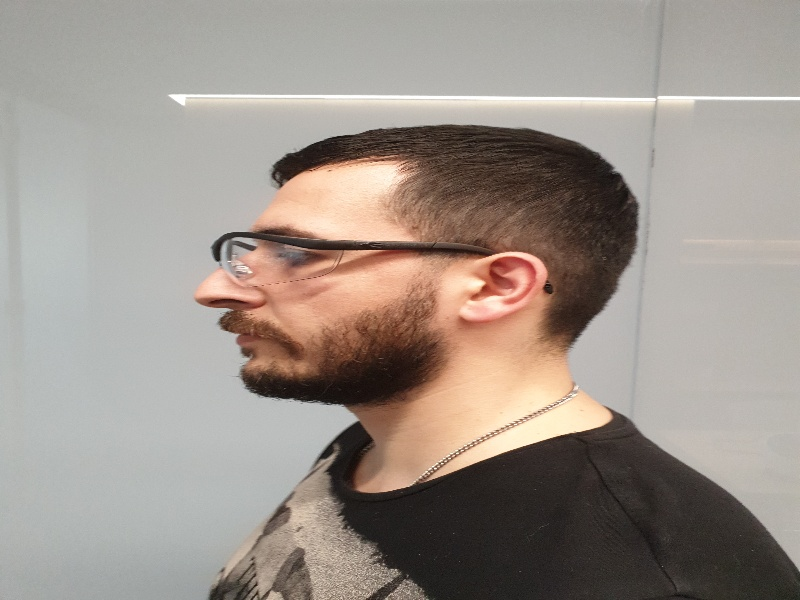Gozluk: (212, 229, 487, 286)
